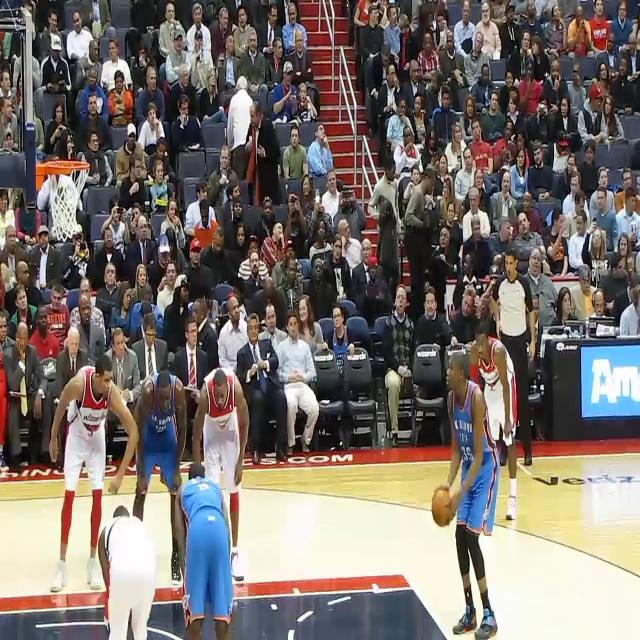ball: (432, 486, 454, 527)
